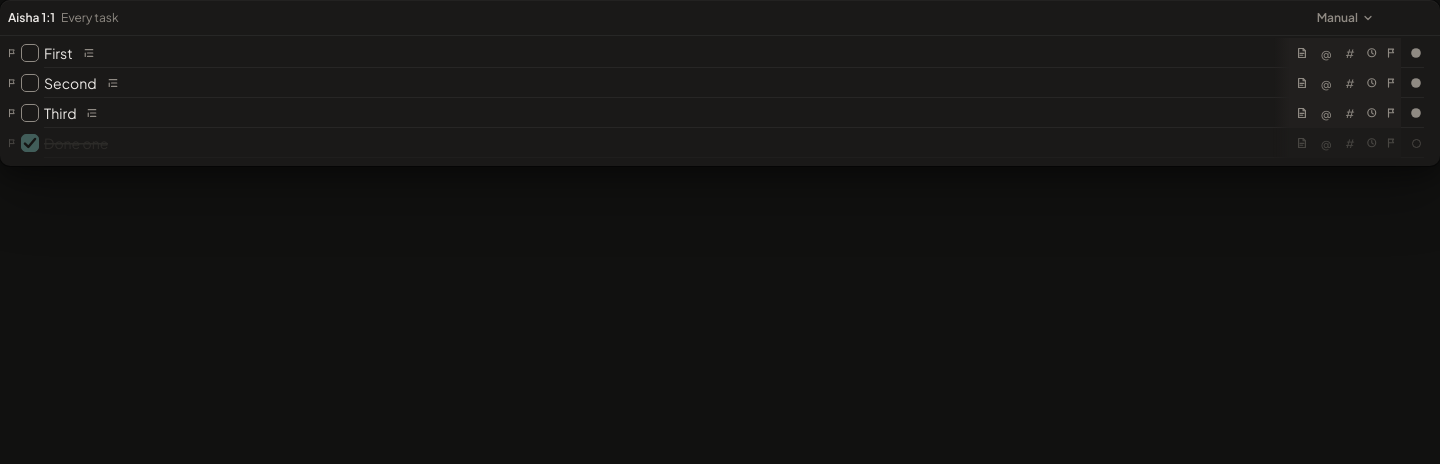
Test: a list tab’s Review these N tasks › counts the open tasks shown (a completed one it shows isn’t reviewed)
Right-click the element showing "Aisha 1:1 Every task Manual" at (720, 18), box [0,0,1439,36]
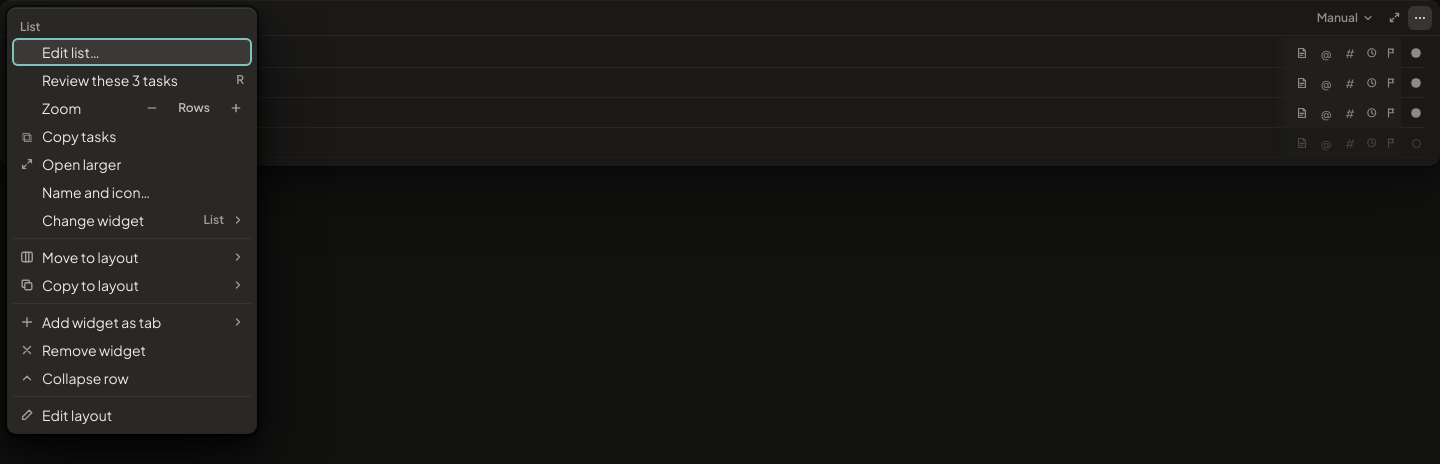
expect the menu item "Review these 3 tasks R" is shown: met, box [12,66,252,94]
